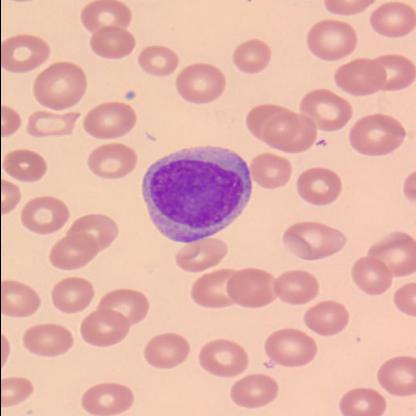Promyelocyte: (138, 146, 250, 242)
